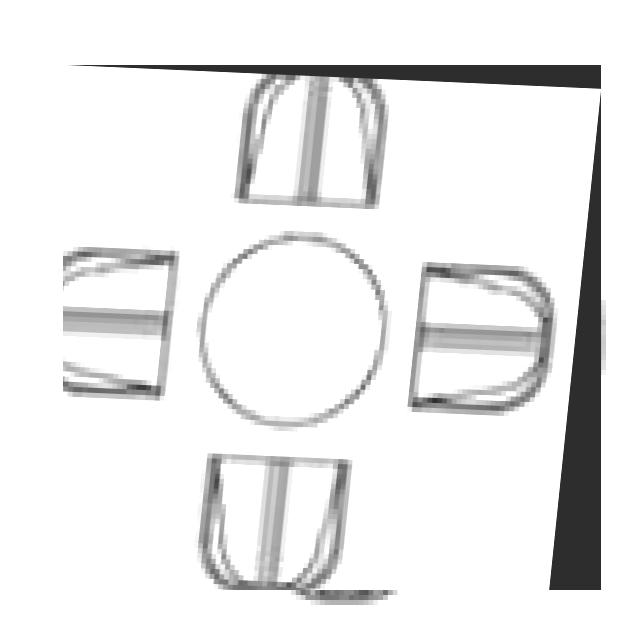table: (63, 65, 601, 590)
